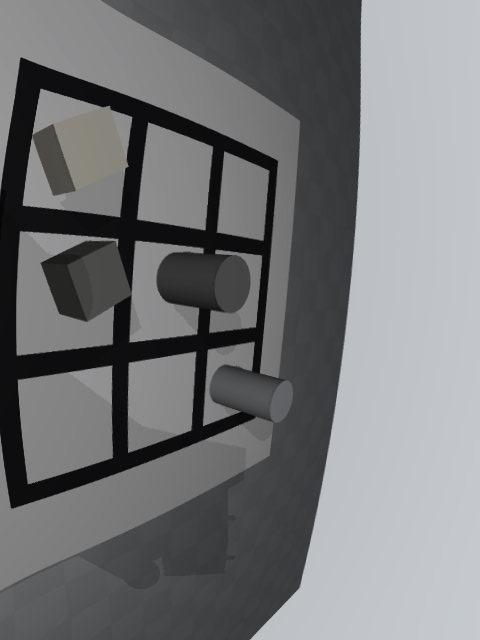can: (209, 364, 293, 423)
cube: (41, 241, 132, 321)
cylinder: (156, 252, 251, 314)
foam: (32, 106, 129, 196)
